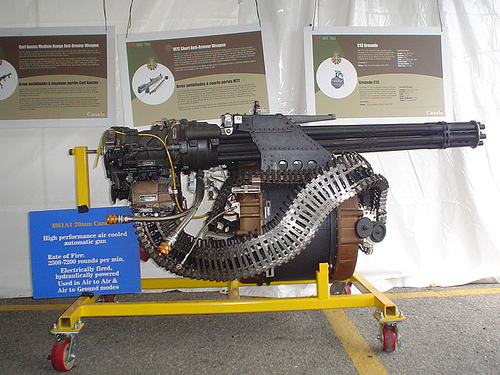rifle: (41, 111, 478, 305)
